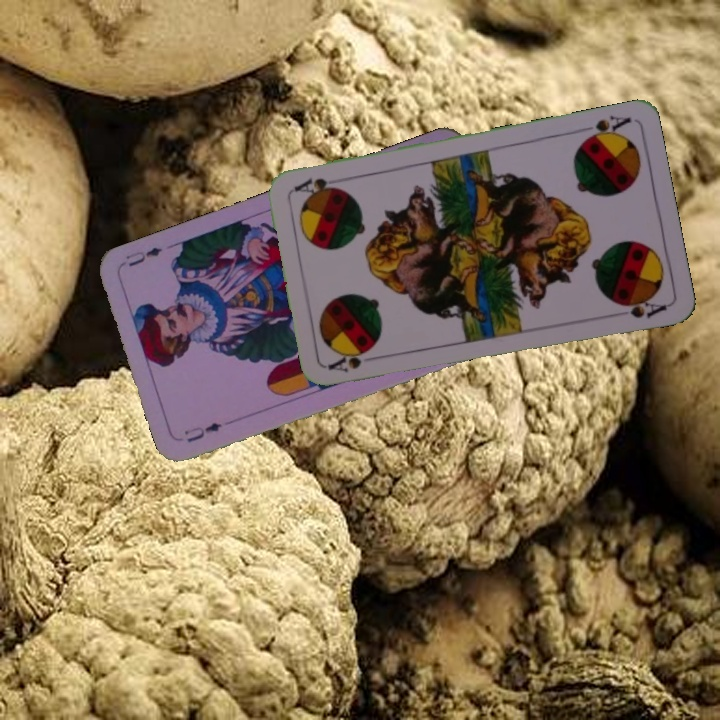EU: (179, 418, 225, 446)
SA: (577, 111, 633, 145), (325, 350, 384, 375)
